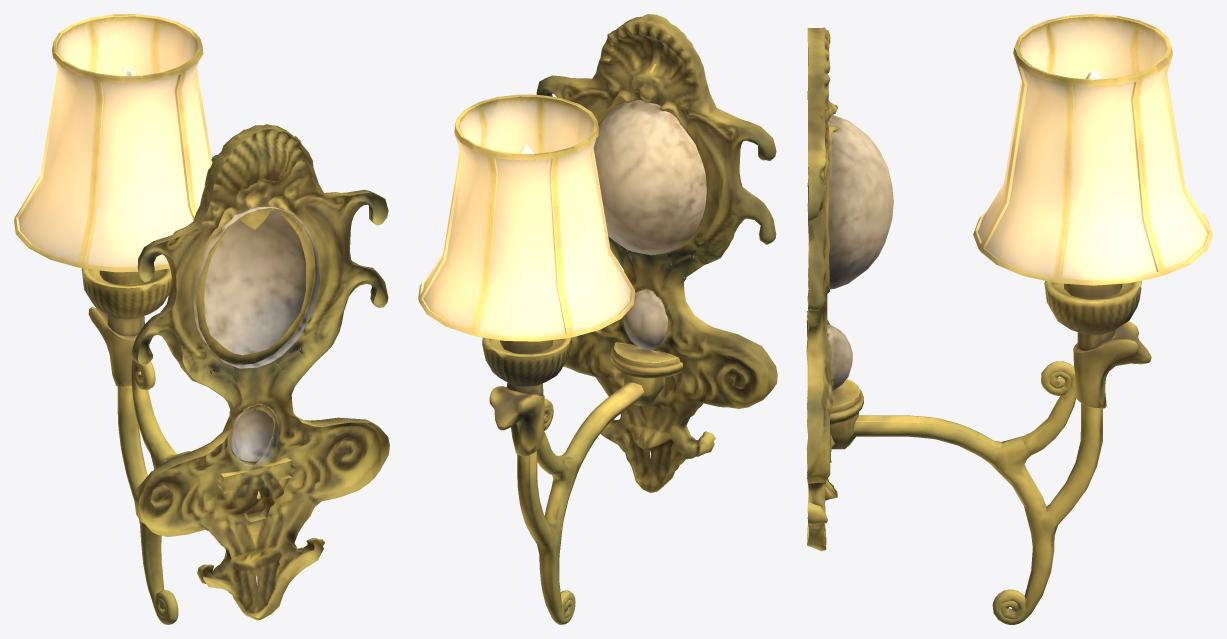
Rendered from antique-wall-light-ba2bc4.glb.
3 views of the same model, side by side, from view 1: azimuth 30°, elevation 25°; view 2: azimuth 150°, elevation 25°; view 3: azimuth 270°, elevation 25° (orthographic). The views are drawn at different scales.
Parts seen in each view (by area): view 1: PropMesh; view 2: PropMesh; view 3: PropMesh.
Boxes of the visible parts, left/top/right/bottom form: PropMesh: left=14, top=14, right=389, bottom=624; PropMesh: left=418, top=14, right=777, bottom=624; PropMesh: left=806, top=14, right=1212, bottom=624.
Size of the model in its own units: 0.2336 by 0.5 by 0.3101.
Materials: 1 (1 with a texture image).
